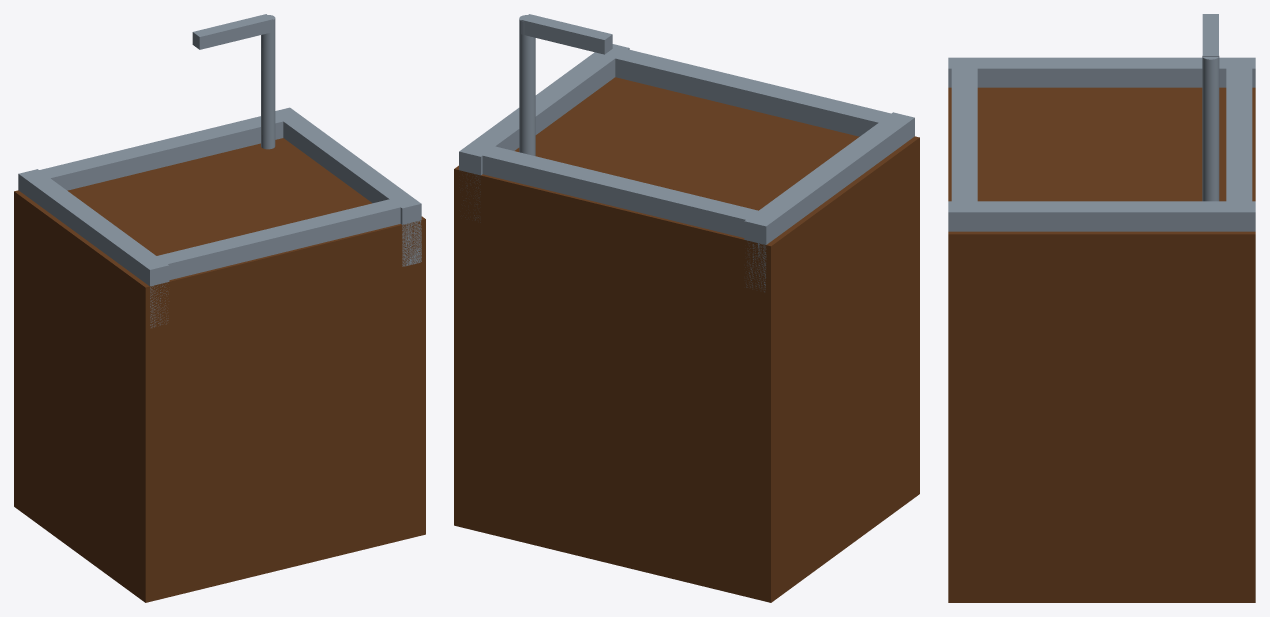
The model's file is sink.glb.
3 views of the same model, side by side, from view 1: azimuth 30°, elevation 25°; view 2: azimuth 150°, elevation 25°; view 3: azimuth 270°, elevation 25° (orthographic). The views are drawn at different scales.
Visible parts, largest first — view 1: Cabinet, _MeshInstance3D_11, BasinEnd, _MeshInstance3D_10, BasinSide, TapStem, TapSpout; view 2: Cabinet, BasinEnd, _MeshInstance3D_11, BasinSide, _MeshInstance3D_10, TapStem, TapSpout; view 3: Cabinet, _MeshInstance3D_10, BasinSide, BasinEnd, _MeshInstance3D_11, TapStem, TapSpout.
Boxes of the visible parts, <box> form: Cabinet: <box>14,138,425,602</box>; _MeshInstance3D_11: <box>156,199,400,280</box>; BasinEnd: <box>39,116,283,190</box>; _MeshInstance3D_10: <box>275,107,421,266</box>; BasinSide: <box>18,169,169,327</box>; TapStem: <box>261,15,275,149</box>; TapSpout: <box>192,14,273,49</box>; Cabinet: <box>454,77,919,602</box>; BasinEnd: <box>482,146,758,237</box>; _MeshInstance3D_11: <box>615,49,890,136</box>; BasinSide: <box>744,112,914,292</box>; _MeshInstance3D_10: <box>459,44,629,222</box>; TapStem: <box>519,15,535,155</box>; TapSpout: <box>521,14,612,54</box>; Cabinet: <box>948,87,1255,602</box>; _MeshInstance3D_10: <box>948,201,1255,231</box>; BasinSide: <box>948,57,1255,87</box>; BasinEnd: <box>1226,68,1252,201</box>; _MeshInstance3D_11: <box>951,68,977,201</box>; TapStem: <box>1202,56,1219,201</box>; TapSpout: <box>1202,14,1218,56</box>.
Size of the model in its own units: 0.8 by 1.22 by 0.65.
